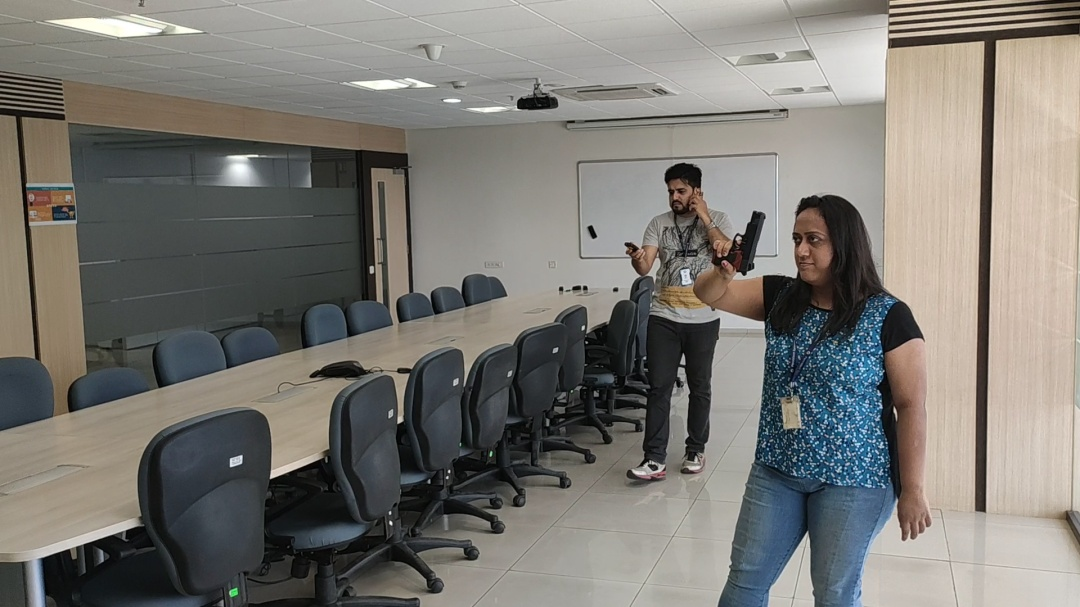gun: (711, 208, 767, 276)
